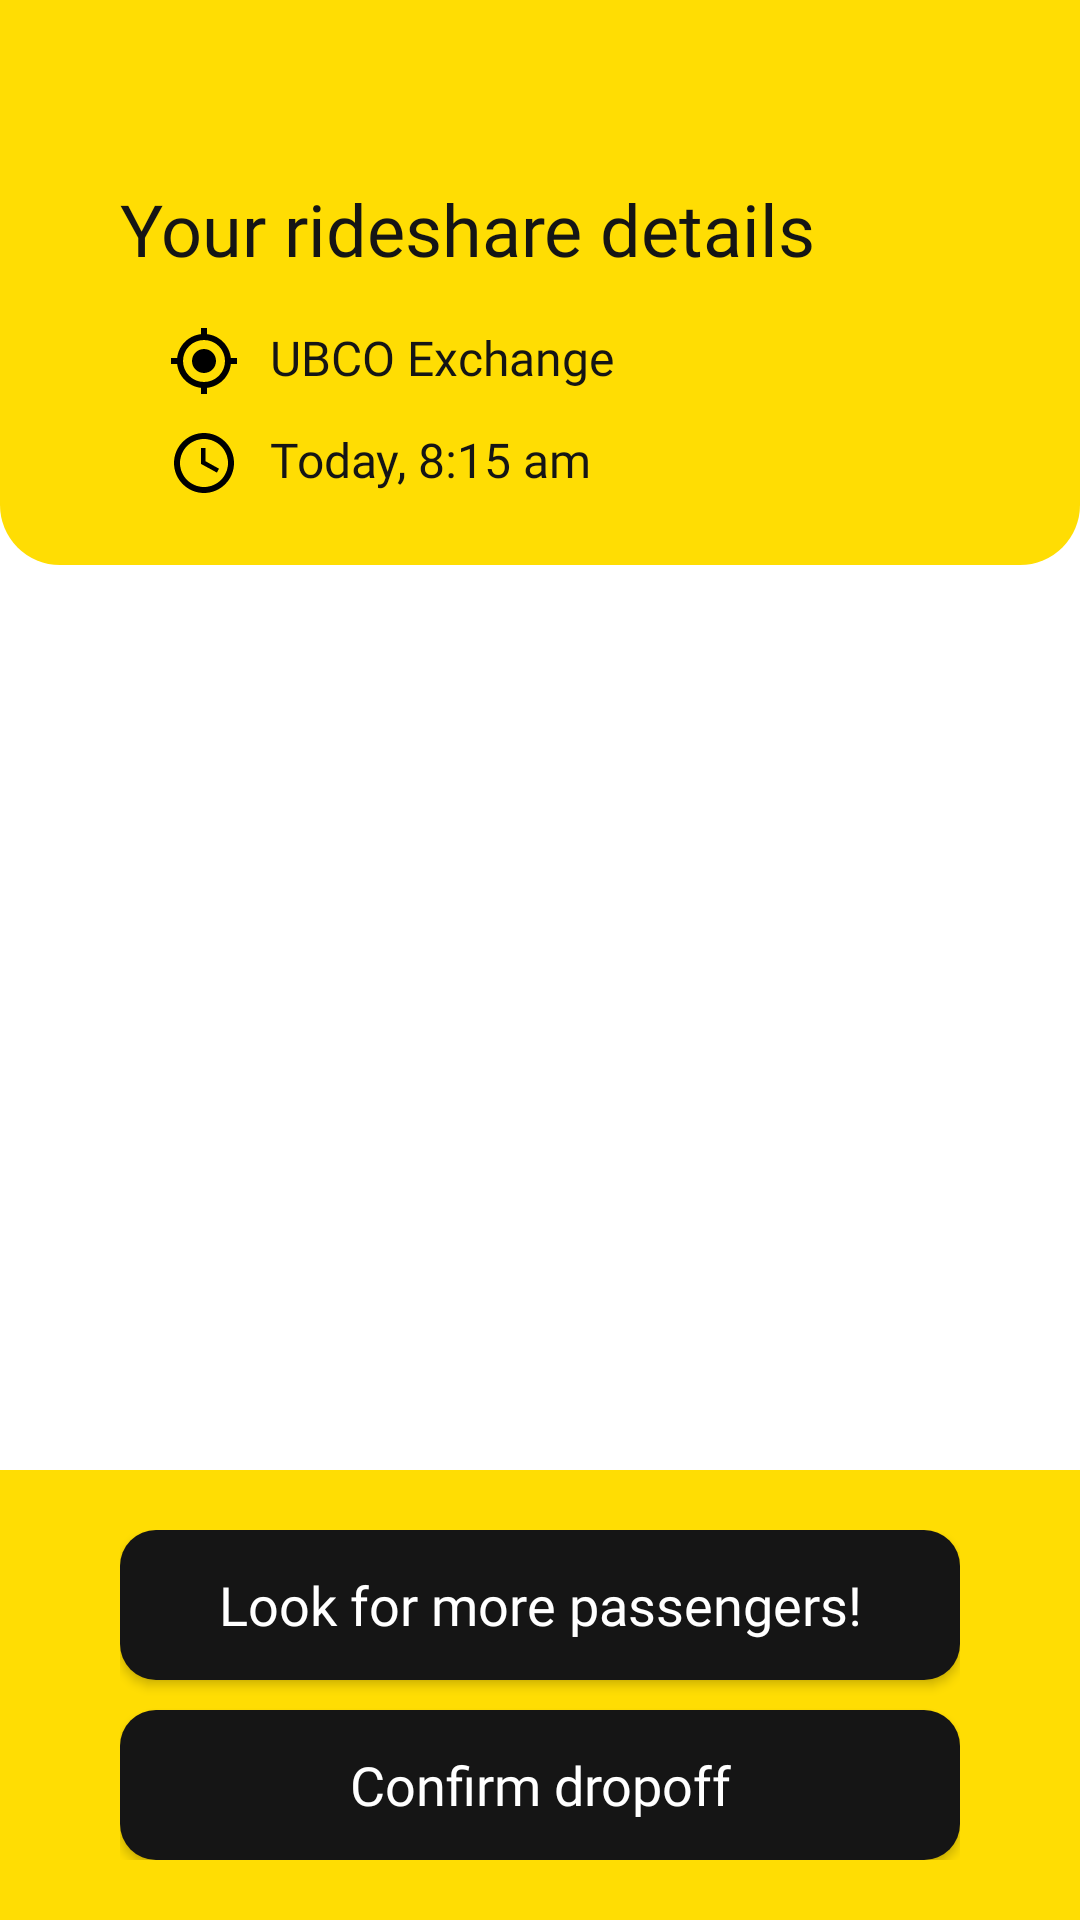

Named icons in this screenshot (1080x1920) and their bounding boxes, (x1, y1, x2, y2):
clock: (174, 433, 234, 493)
target: (171, 328, 237, 394)
